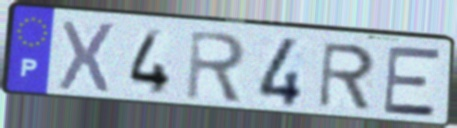4: (255, 35, 305, 109), (126, 28, 174, 98)
E: (381, 46, 442, 120)
R: (183, 28, 248, 105), (315, 40, 378, 112)
X: (55, 18, 118, 97)
